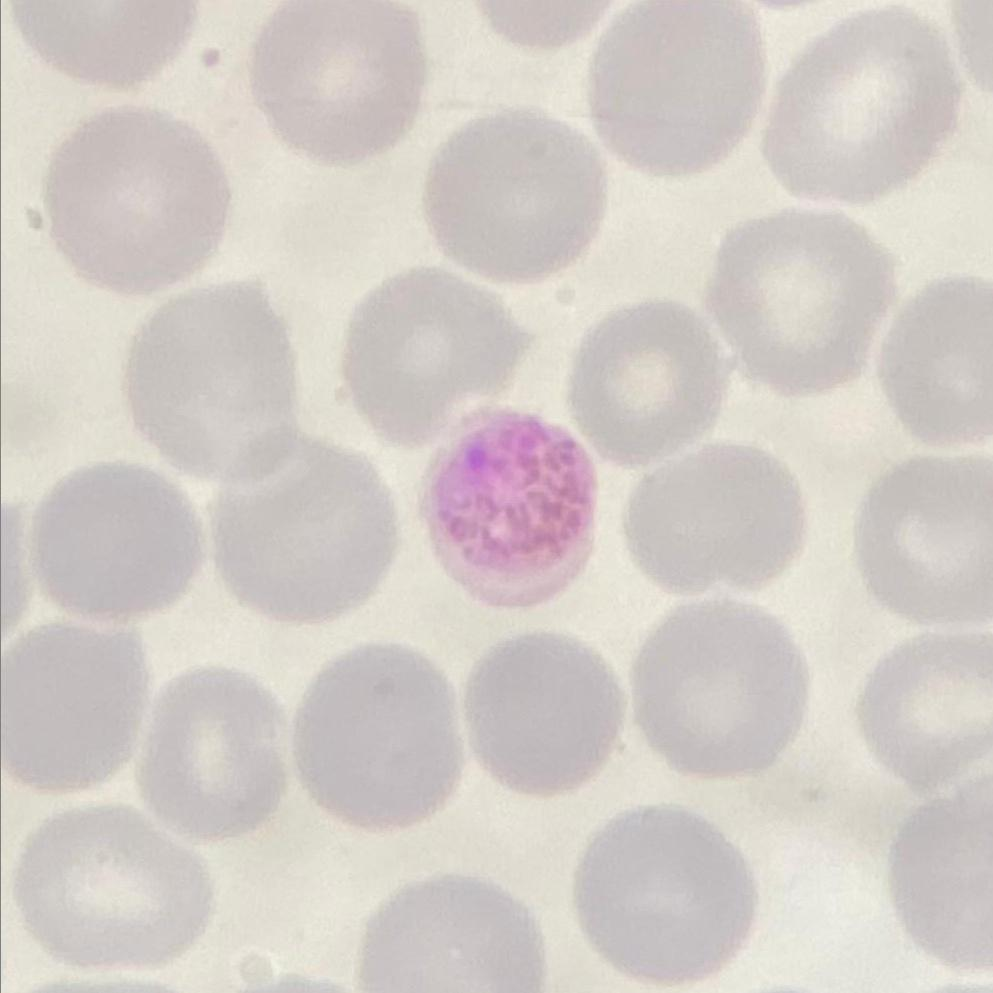Infected: (413, 403, 596, 610)
Uninfected: (765, 8, 956, 202), (122, 276, 299, 484), (43, 103, 228, 297), (425, 101, 609, 290), (212, 433, 394, 622), (293, 643, 472, 832), (340, 273, 531, 449), (7, 806, 209, 971), (710, 216, 894, 395), (573, 806, 751, 986), (585, 0, 766, 175), (632, 603, 809, 777), (620, 438, 811, 594), (563, 301, 736, 470), (22, 463, 199, 614), (460, 628, 621, 792), (258, 0, 421, 160), (133, 668, 286, 837), (0, 613, 142, 794), (855, 453, 993, 627), (862, 631, 993, 801), (357, 878, 549, 993), (881, 273, 993, 450)
